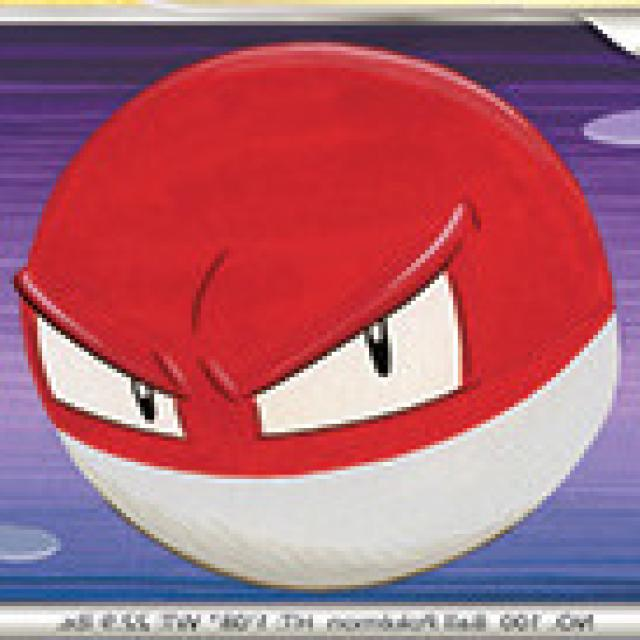Voltorb: (18, 38, 622, 593)
